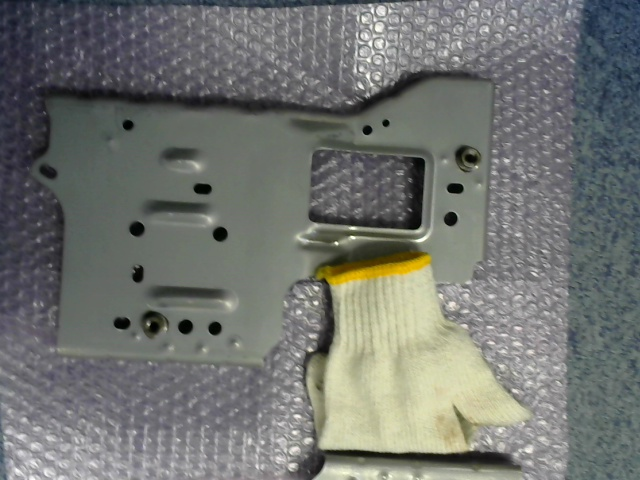dog: (140, 310, 169, 338), (456, 145, 482, 173)
